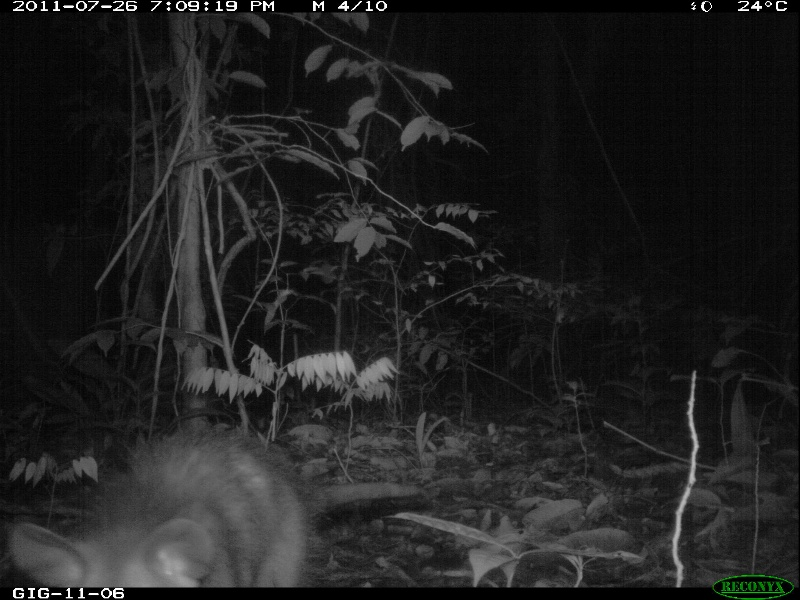opossum: (14, 424, 421, 584)
